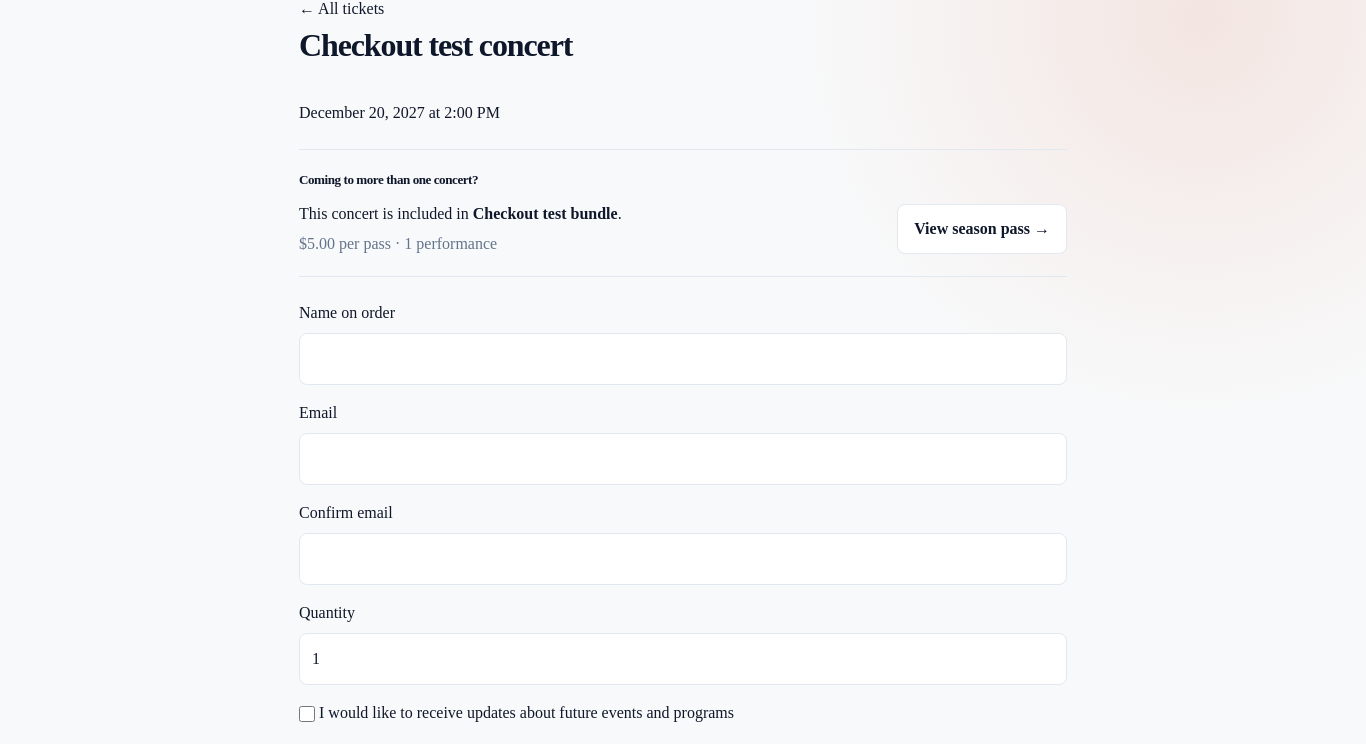
TicketCheckoutFooter › labels submission in progress for the actual paid action
This screenshot has width=1366, height=744.
Type "Casey Buyer" into the field labelled "Name on order" at (683, 359), box [299,333,1067,385]
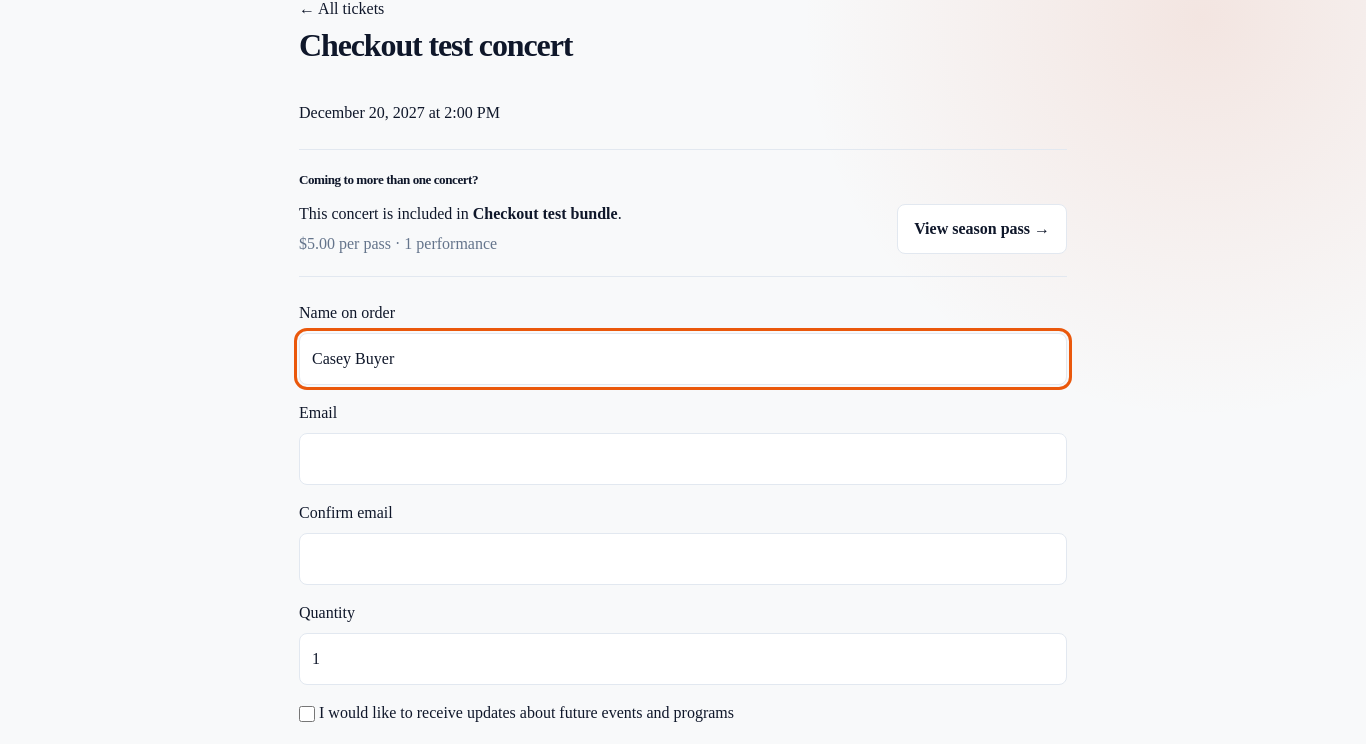
Type "casey@example.test" into the field labelled "Email" at (683, 459), box [299,433,1067,485]
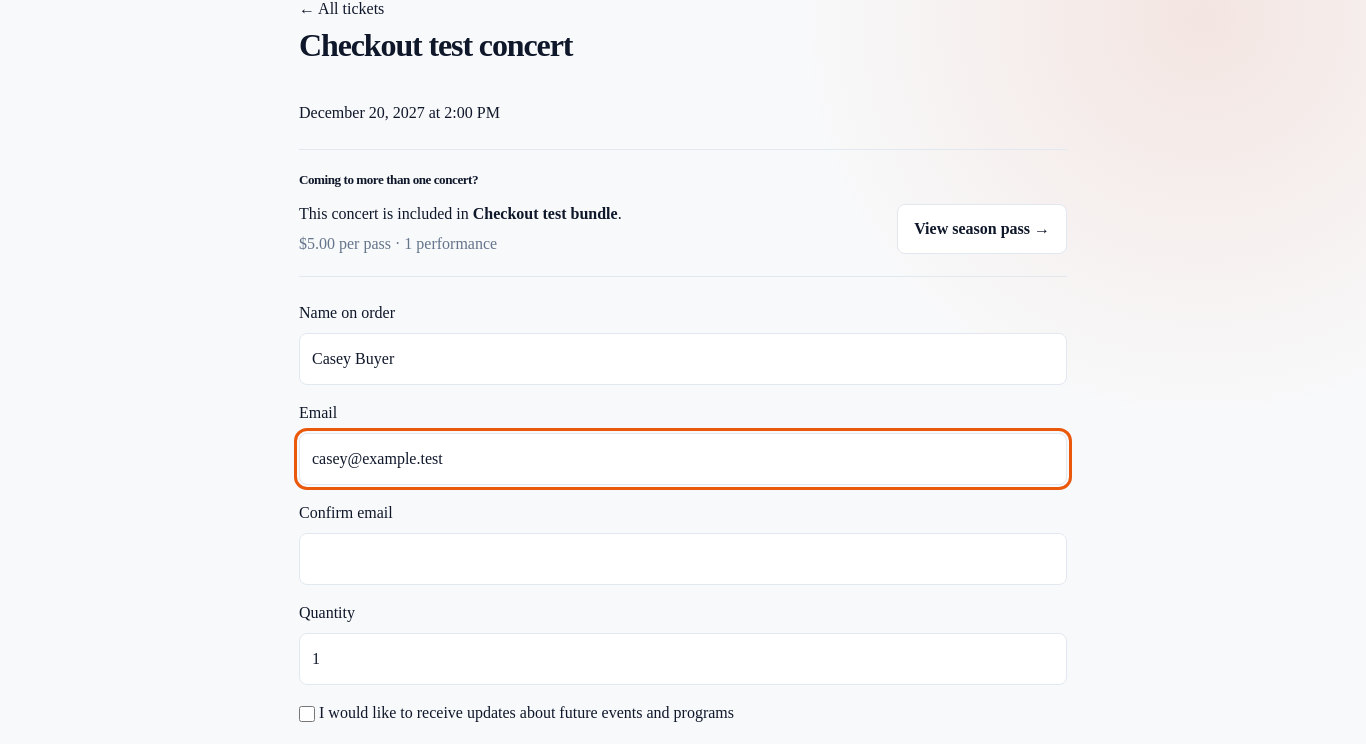
Type "casey@example.test" into the field labelled "Confirm email" at (683, 559), box [299,533,1067,585]
(page scrolled)
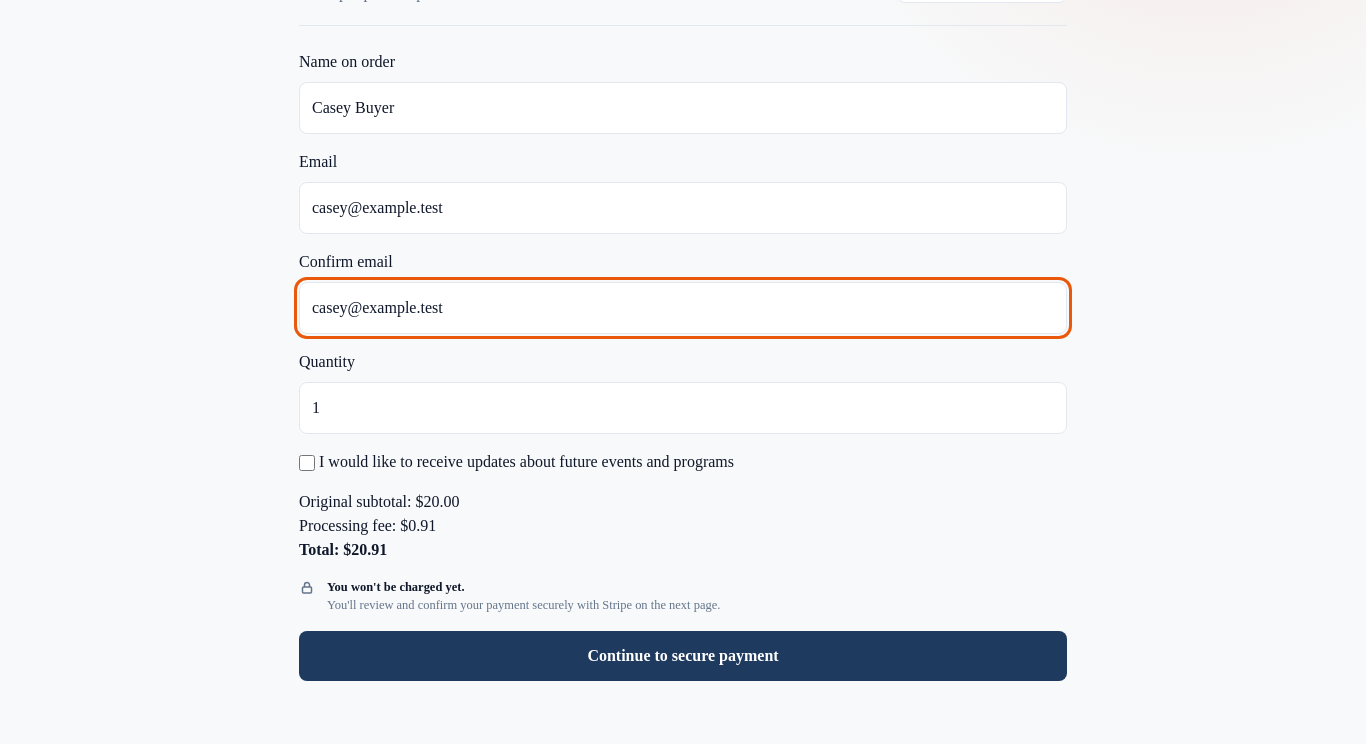
Click the button "Continue to secure payment" at (683, 656), box [299,631,1067,681]
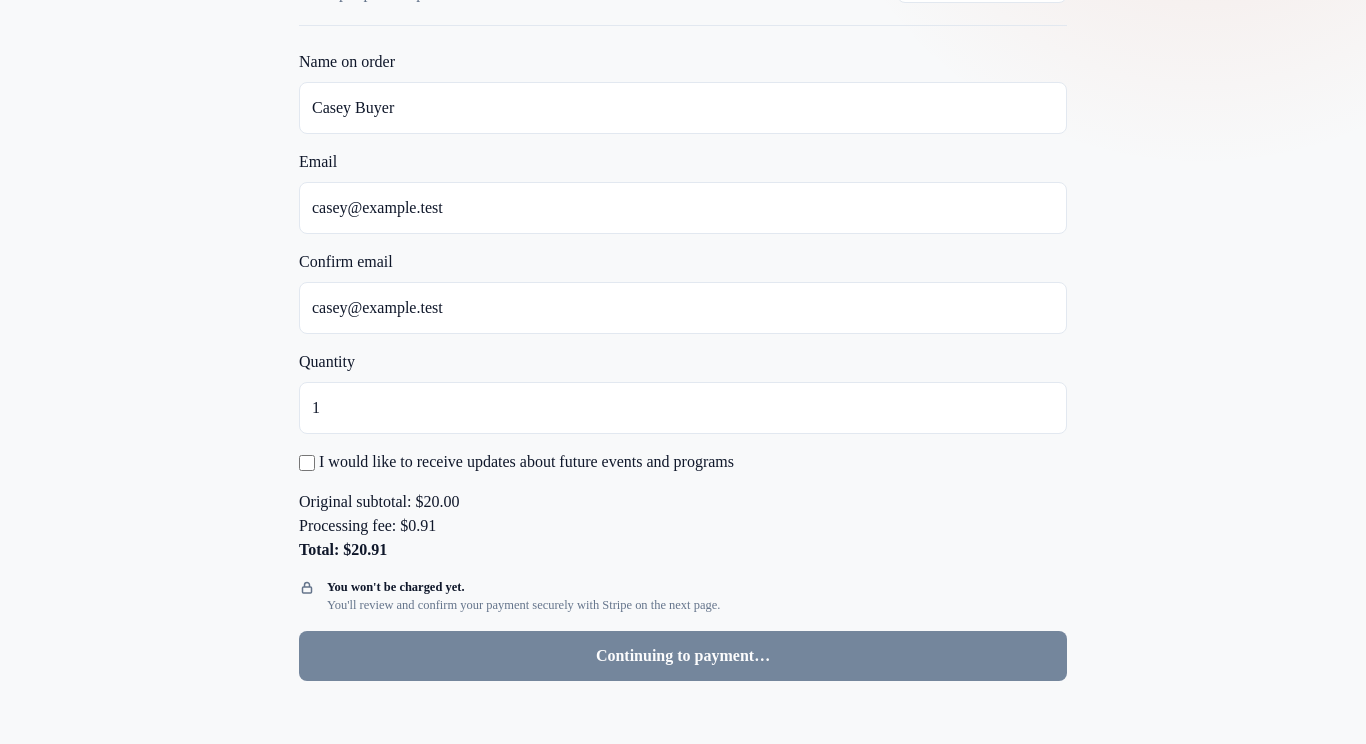
Result: the button "Continuing to payment…" is disabled at [299,631,1067,681]
